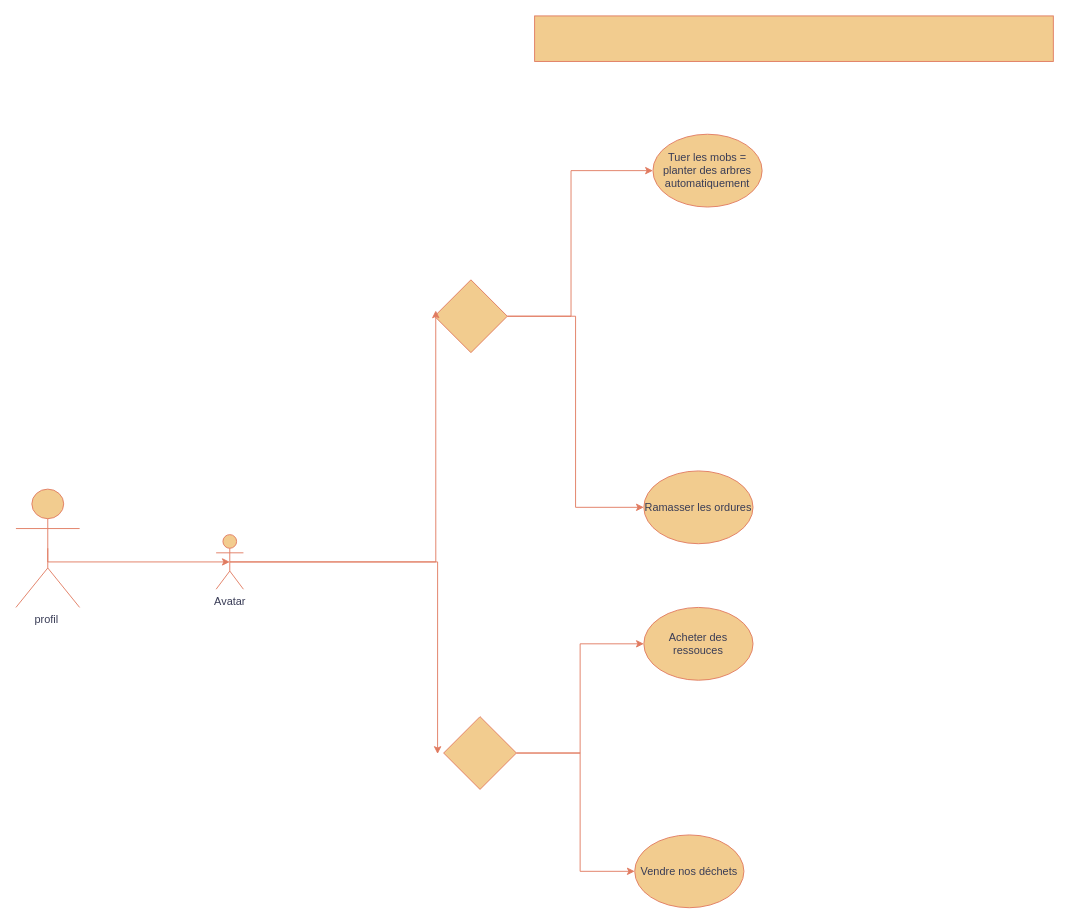
Image size: 1069x924. Some labels were removed from this diagram. The shapes that lost their labels are listed below. From the top down, each one's centre as x and y in pixels, then its label:
point (793, 38): Cas d'utilisation
point (470, 316): Quêtes
point (479, 752): Boutique : Recycleur
